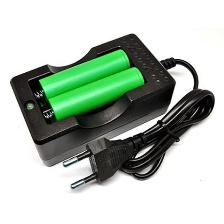battery: (45, 66, 146, 126), (35, 44, 135, 104)
